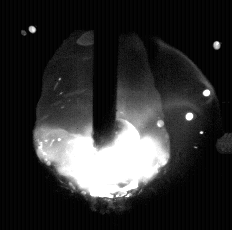arame: (93, 0, 117, 149)
poca: (33, 0, 170, 230)
